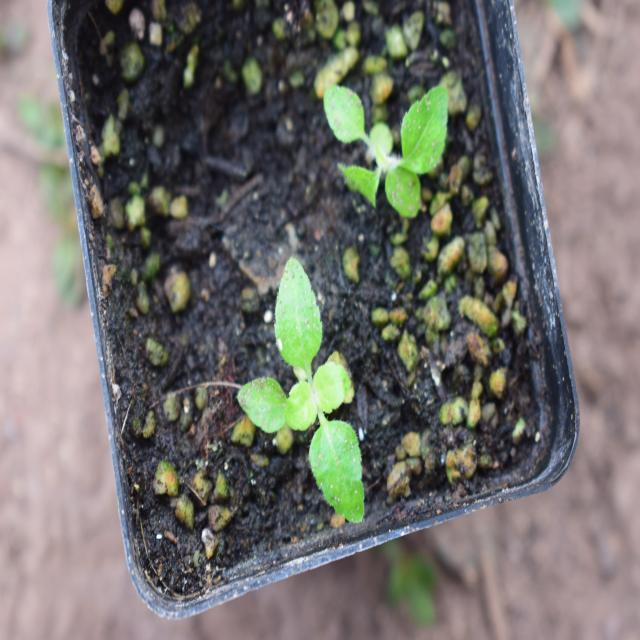billygoat_weed: (245, 249, 389, 503), (318, 62, 448, 230)
